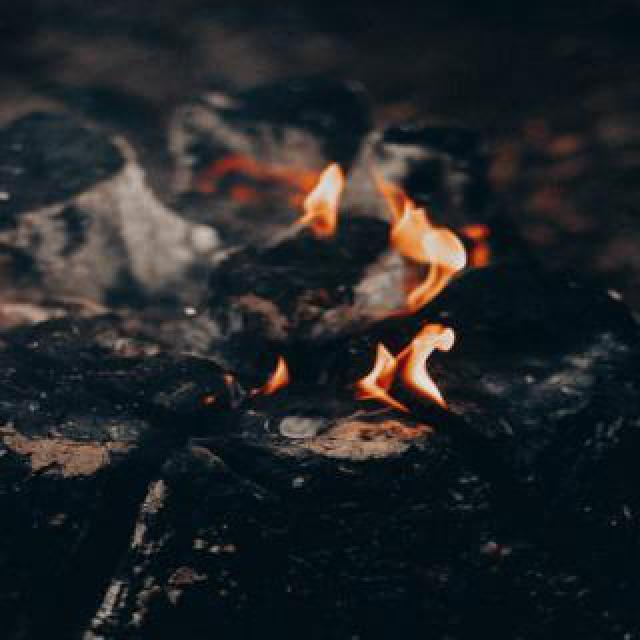Fire: (228, 112, 486, 426)
